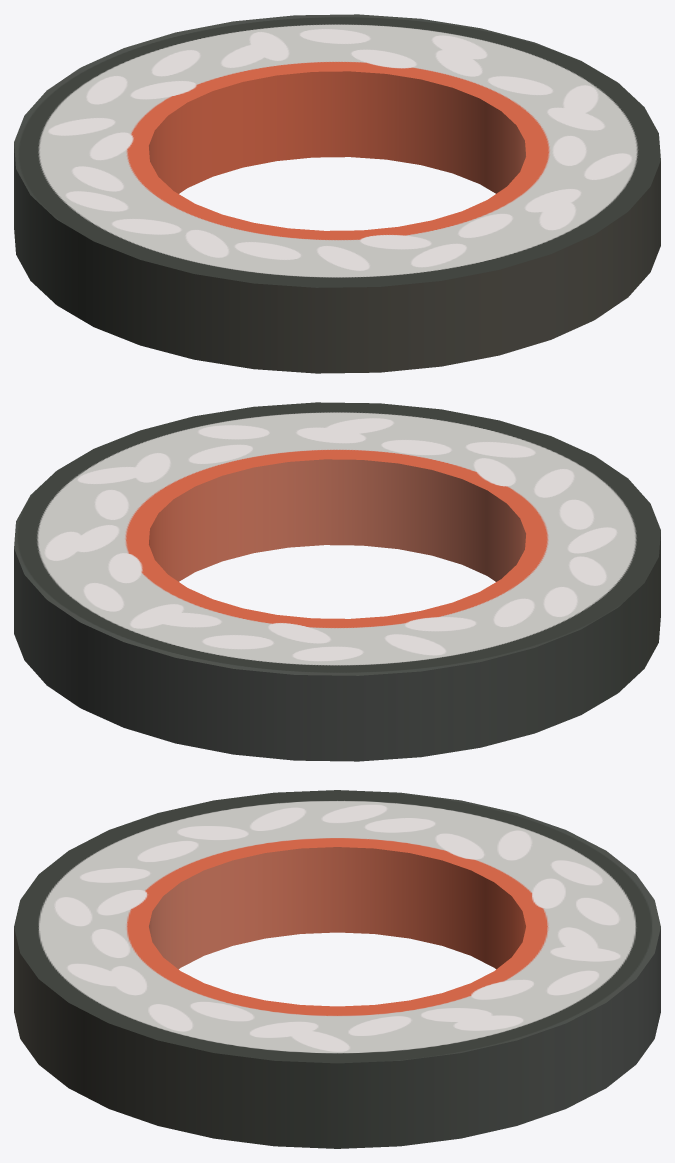
File: Roll.FBX
3 views of the same model, one above another, from view 1: azimuth 30°, elevation 25°; view 2: azimuth 150°, elevation 25°; view 3: azimuth 270°, elevation 25° (orthographic).
Parts seen in each view (by area): view 1: Roll; view 2: Roll; view 3: Roll.
Part boxes in pixels (x1=…): Roll: x1=14, y1=14, x2=660, y2=373; Roll: x1=14, y1=402, x2=660, y2=761; Roll: x1=14, y1=790, x2=660, y2=1148.
Bounding box in the file's own units: 48 × 7 × 48.
Materials: 1 (1 with a texture image).
